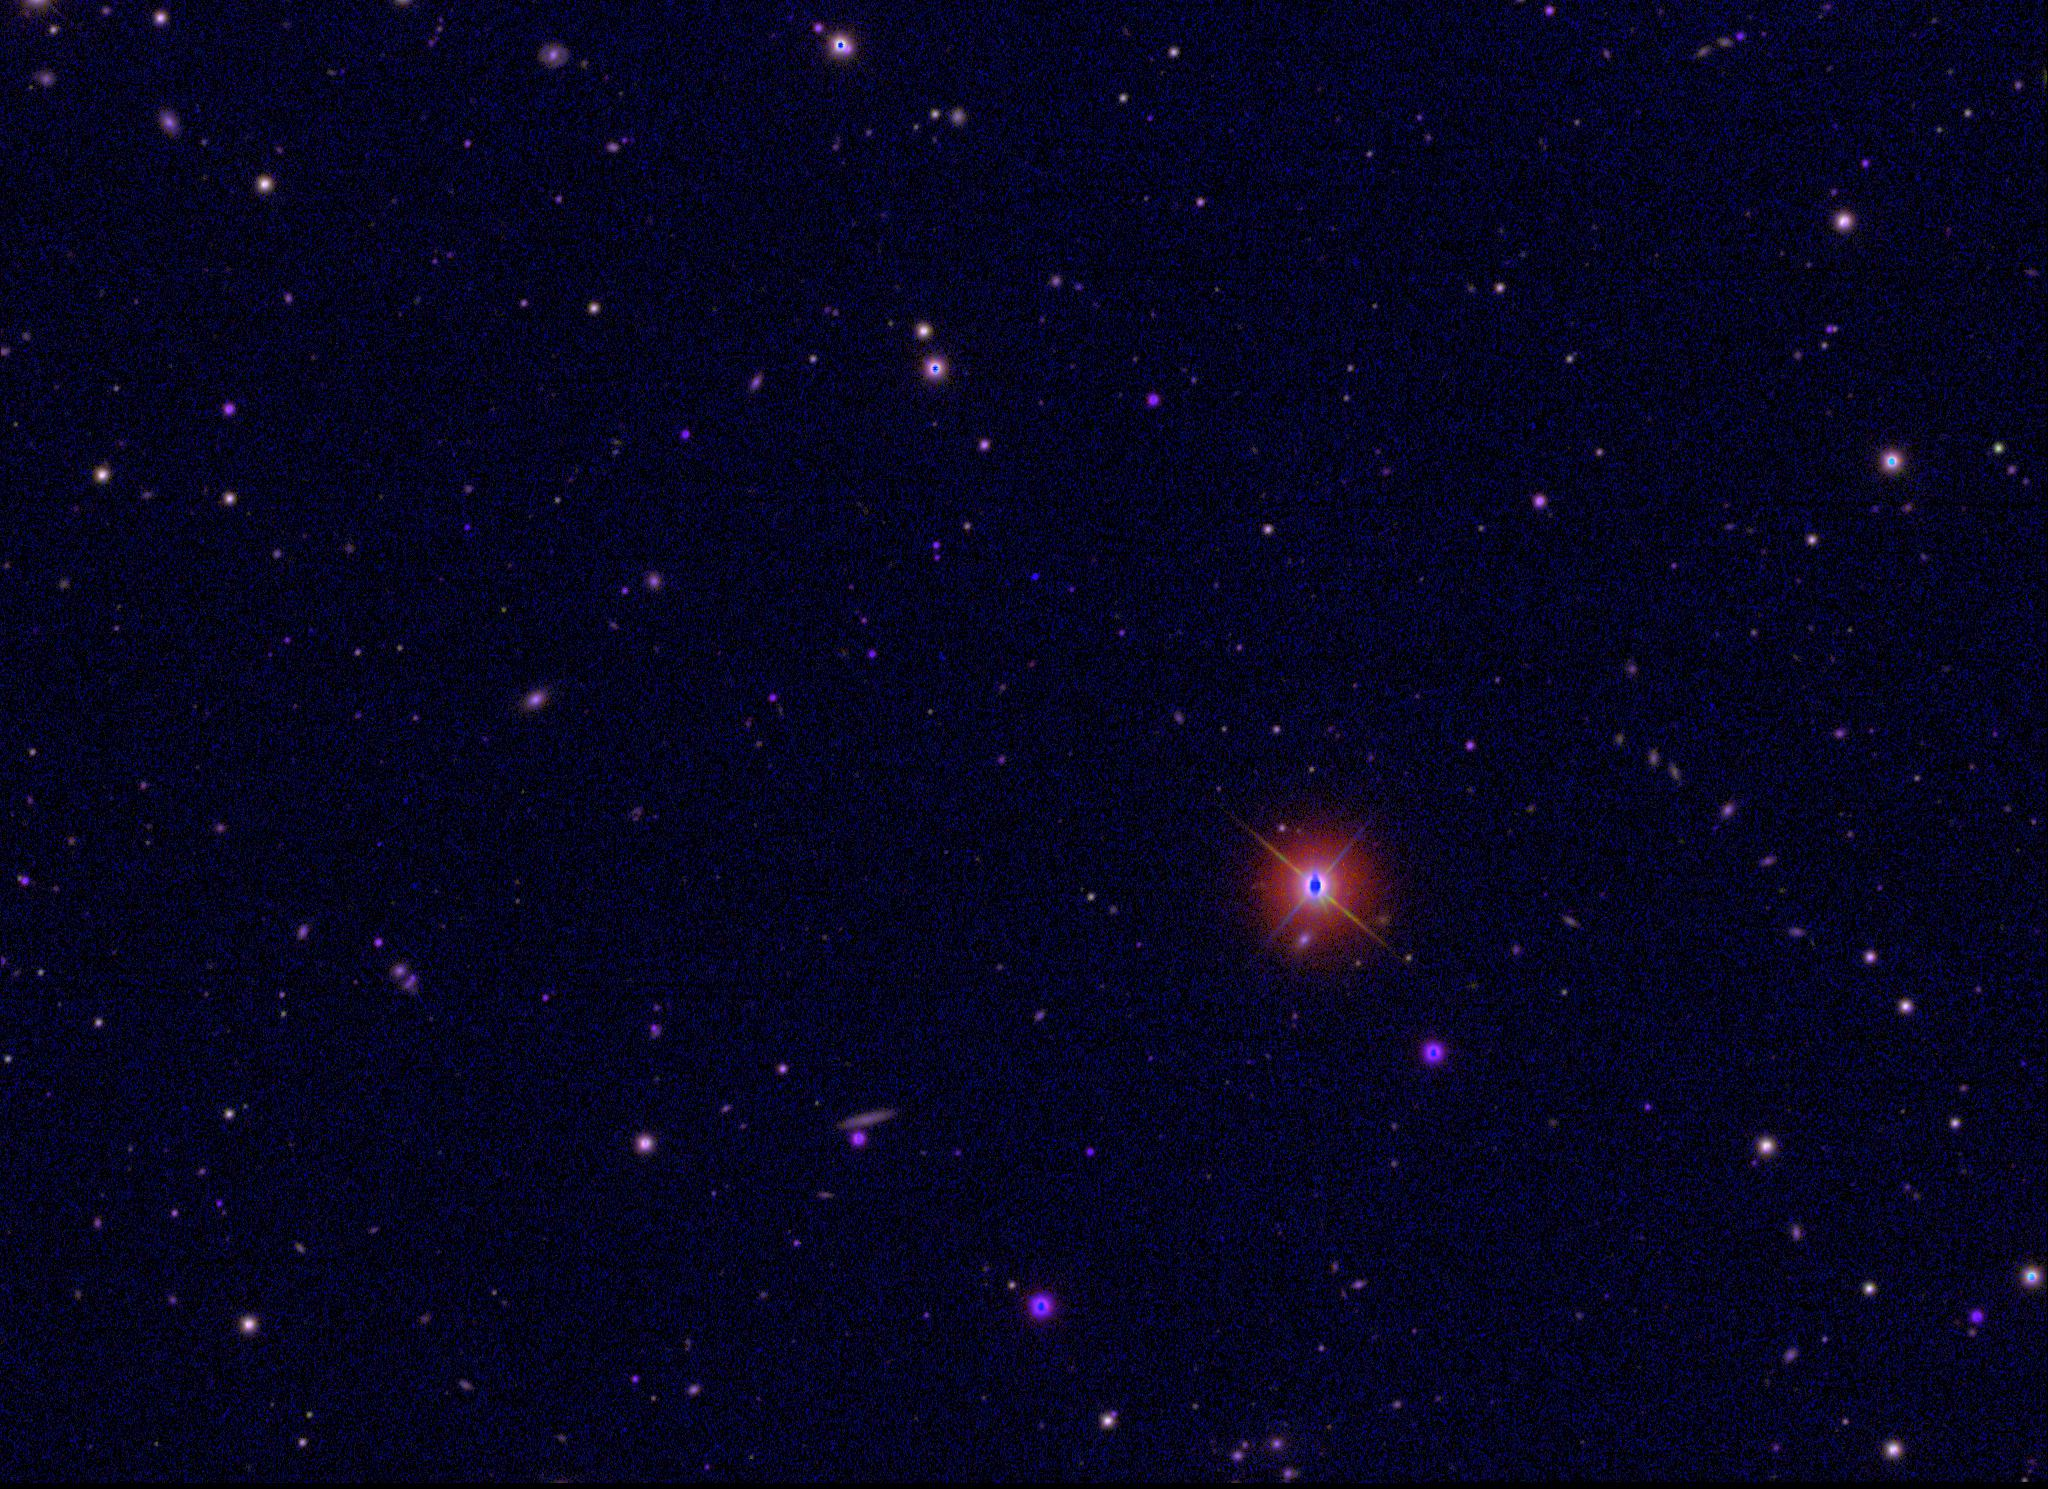L: (1029, 570, 1041, 584)
